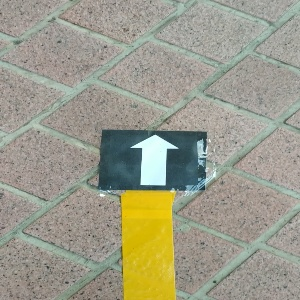straight: (99, 130, 208, 191)
